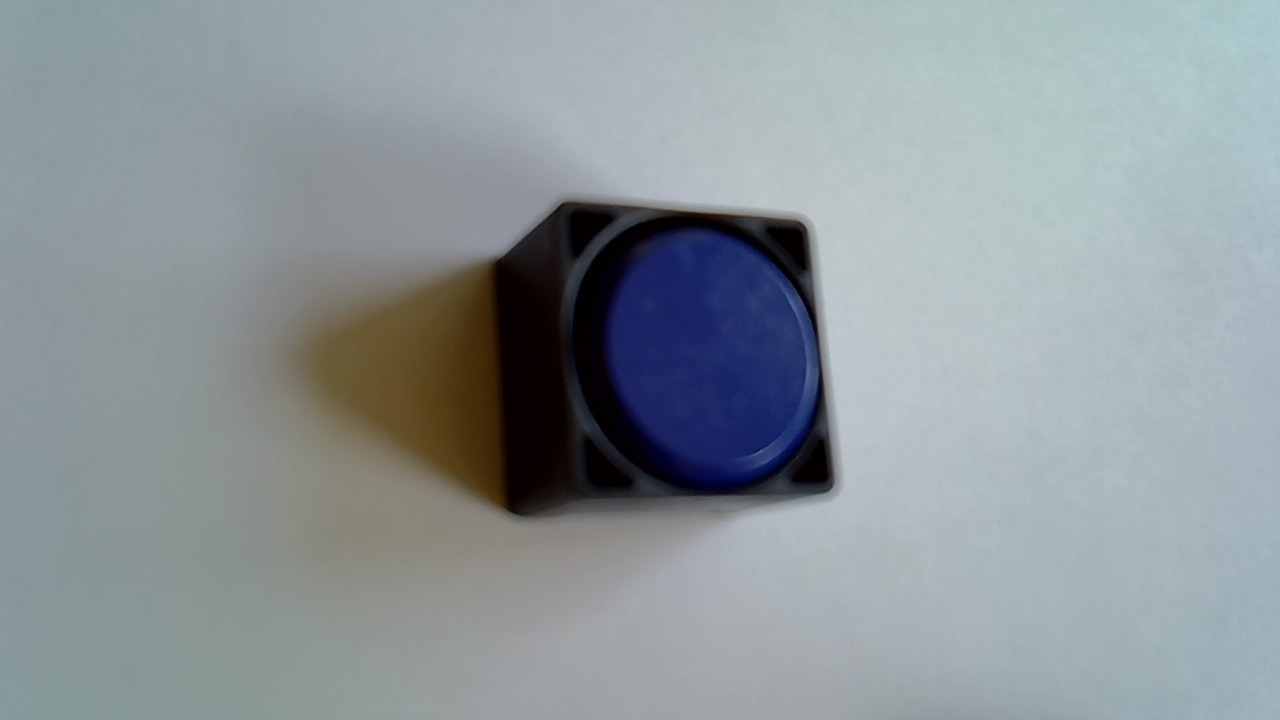Behaelter: (486, 198, 844, 519)
WerkStueck: (586, 225, 821, 483)
